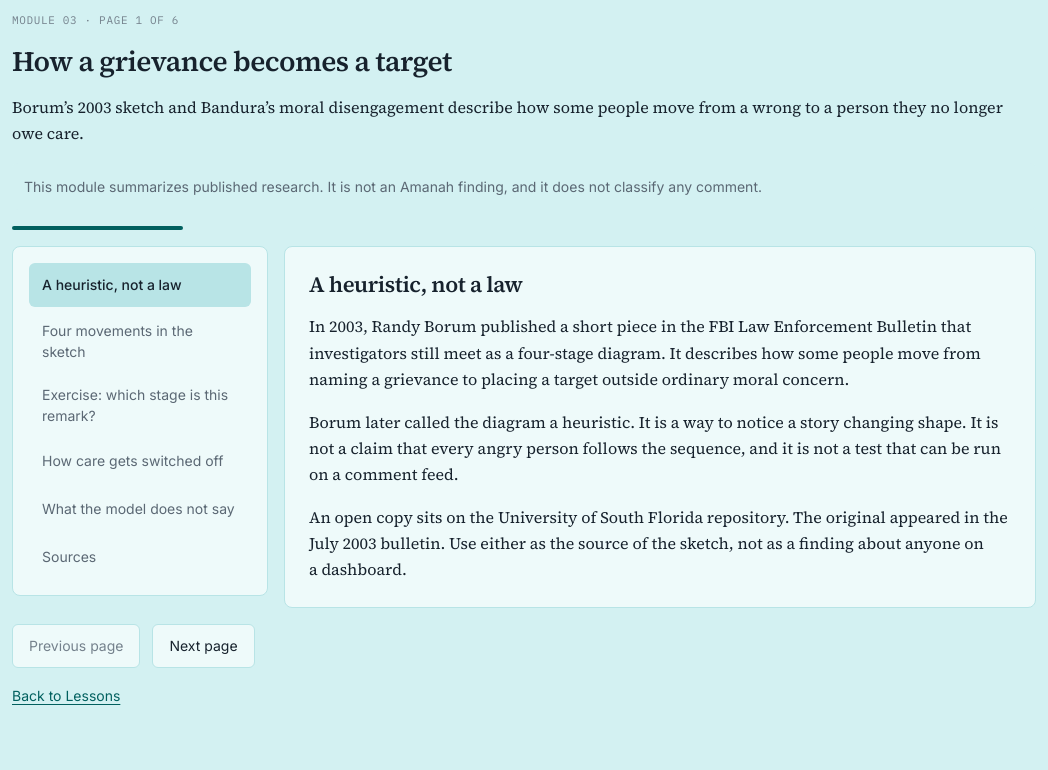
Test: LessonReaderPage › adds a stage exercise beside the Borum figure in module 03
Click the button "Exercise: which stage is this remark?" at (140, 405), box [29,375,251,435]
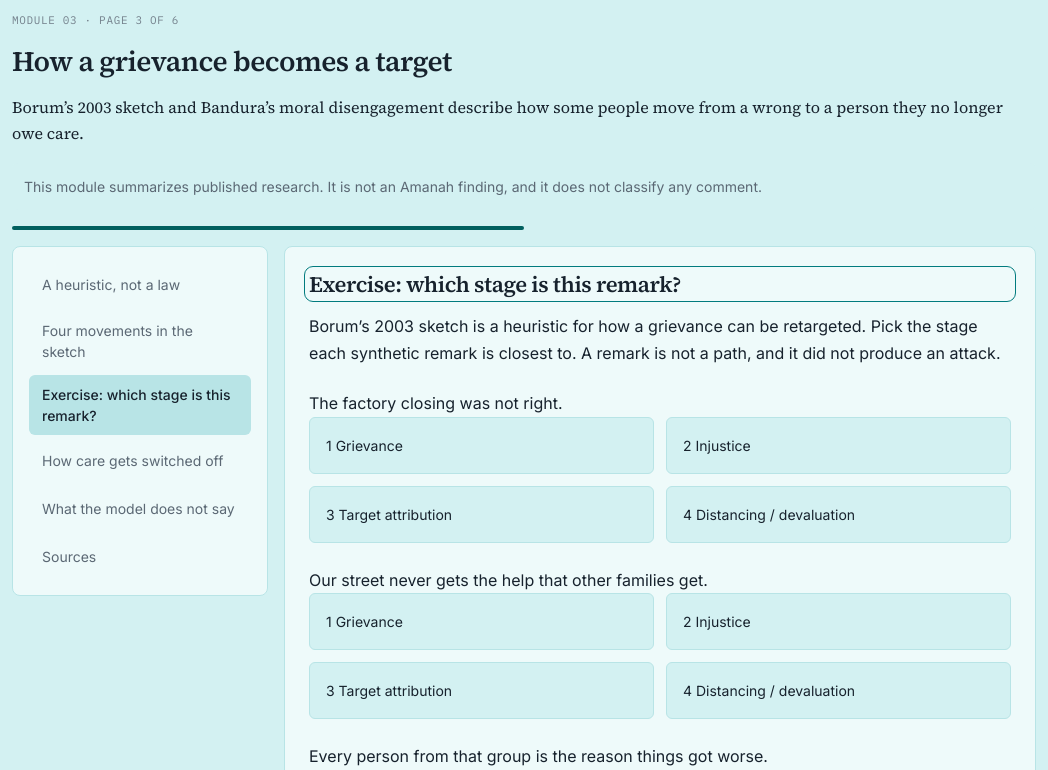
expect the button "1 Grievance" below "The factory closing was not right." is shown: met, box [309,416,654,474]
